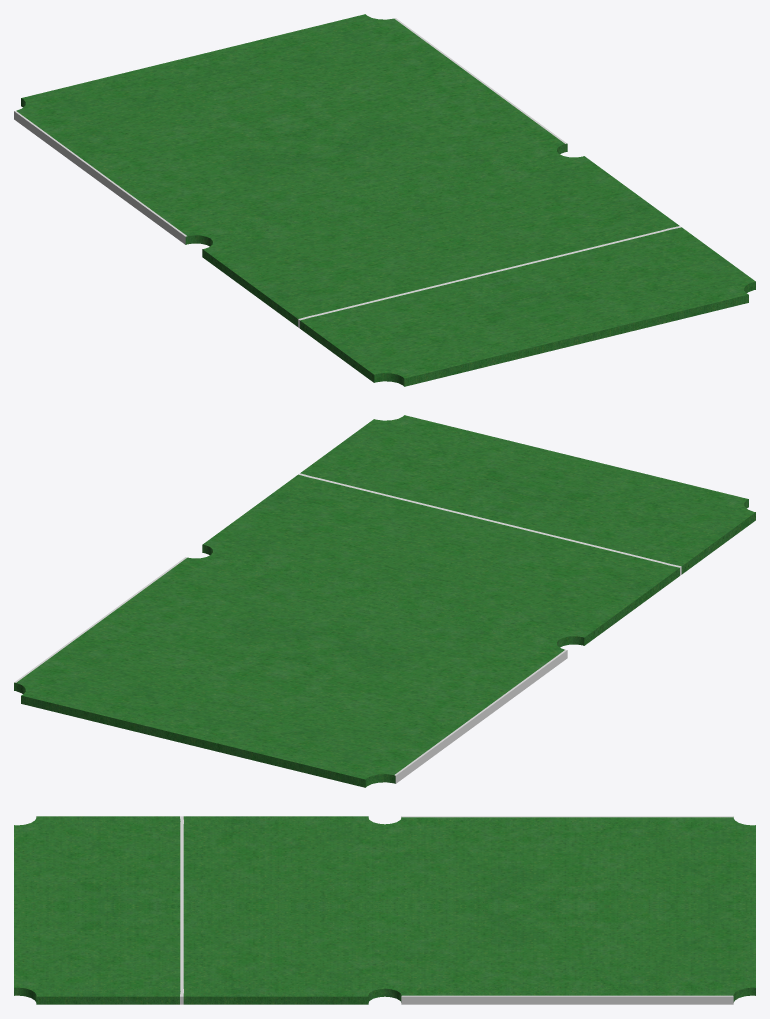
The model's file is Base_Board.fbx.
3 renders of one model, top to bottom at view 1: azimuth 30°, elevation 25°; view 2: azimuth 150°, elevation 25°; view 3: azimuth 270°, elevation 25°, orthographic. The views are drawn at different scales.
Visible parts, largest first — view 1: Cube; view 2: Cube; view 3: Cube.
Part boxes in pixels (x1,y1,x2,y2): Cube: [14, 14, 755, 386]; Cube: [14, 415, 755, 787]; Cube: [14, 816, 755, 1004].
Bounding box in the file's own units: 966 × 20 × 1680.
